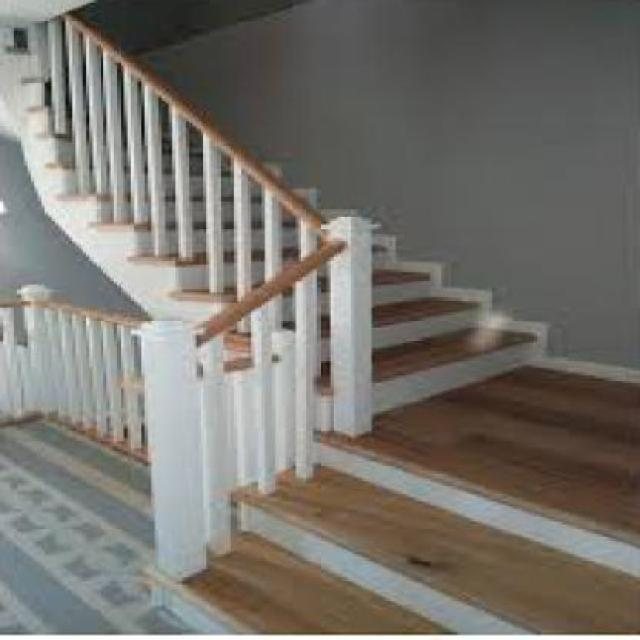stair: (0, 17, 637, 634)
